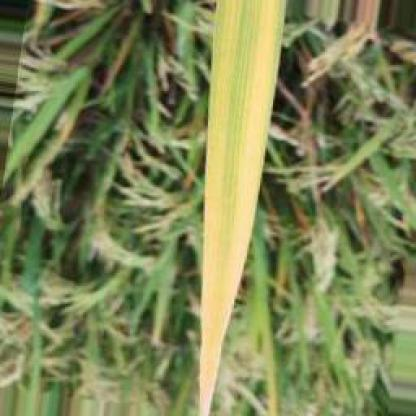Tungro: (203, 3, 291, 416)
